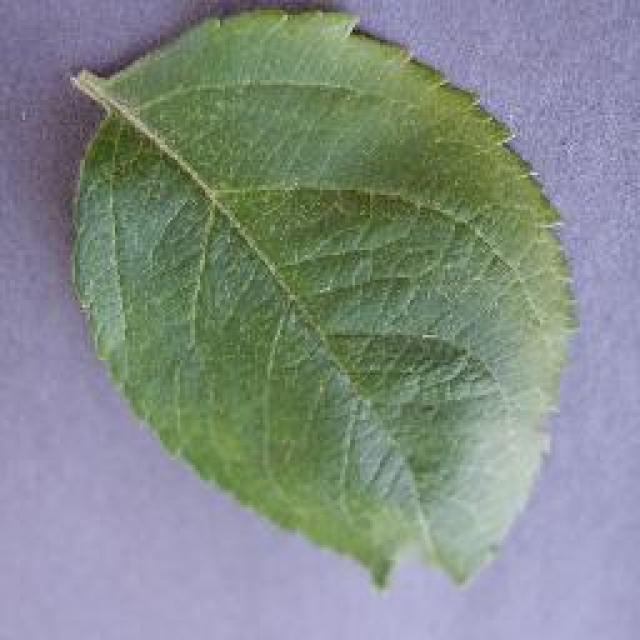apple healthy: (65, 2, 583, 590)
